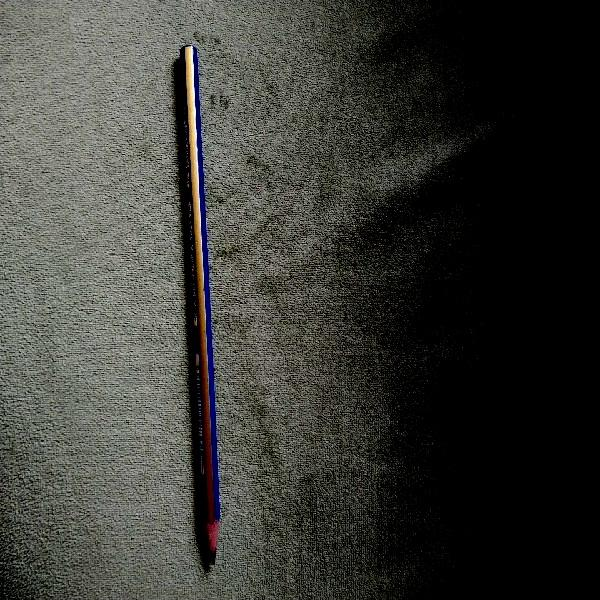pencil: (173, 47, 229, 562)
